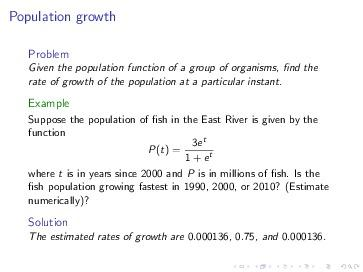paragraph: (23, 62, 343, 252)
subtitle: (24, 45, 73, 61)
title: (6, 6, 121, 35)
